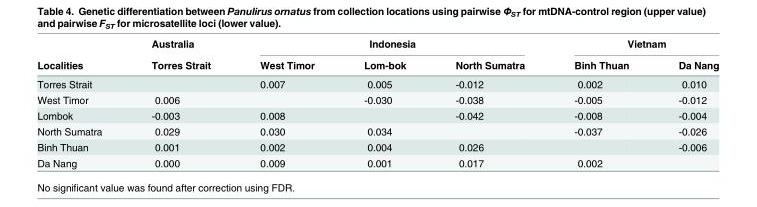table: (36, 36, 718, 168)
table column: (429, 36, 548, 168), (126, 36, 234, 168), (548, 36, 653, 168), (234, 36, 338, 168), (338, 36, 429, 168), (36, 36, 126, 168), (653, 36, 718, 168)
table column header: (36, 36, 718, 74)
table row: (36, 53, 718, 74), (36, 36, 718, 53), (36, 74, 718, 91), (36, 91, 718, 107), (36, 107, 718, 123), (36, 138, 718, 154), (36, 123, 718, 138), (36, 154, 718, 168)
table spanning cell: (234, 36, 548, 53), (126, 36, 234, 74), (36, 36, 126, 74), (548, 36, 718, 53)
